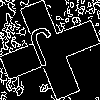J: (25, 25, 65, 77)
